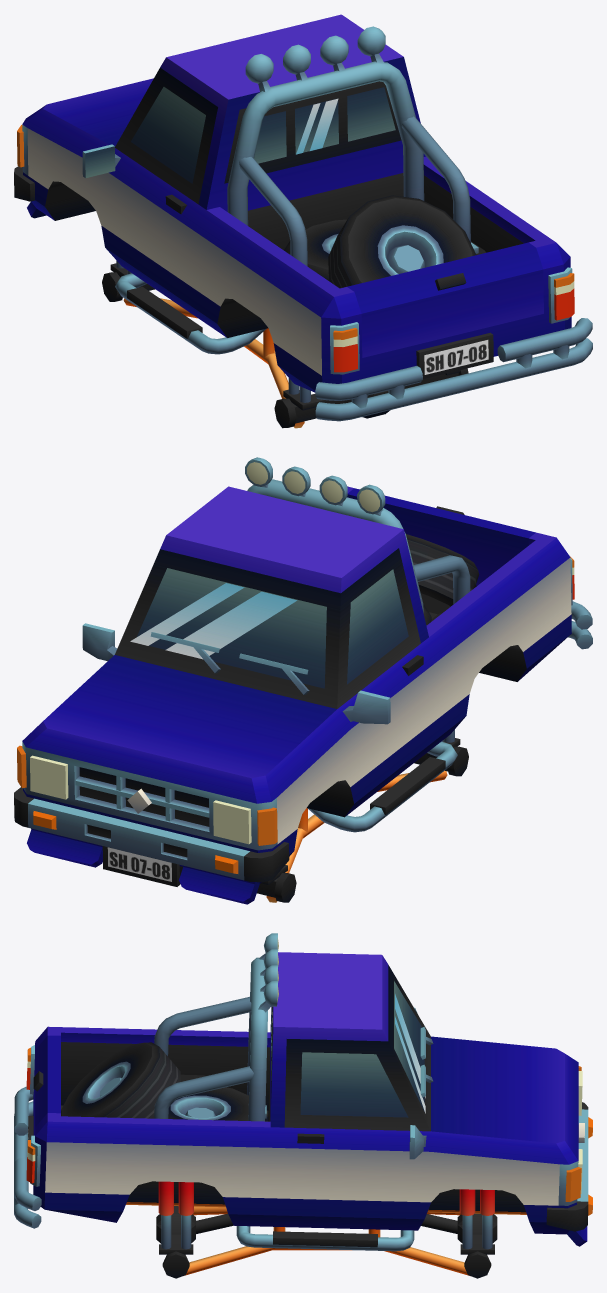
The model's file is car5.glb.
The picture shows the model from 3 angles, top to bottom: view 1: azimuth 30°, elevation 25°; view 2: azimuth 150°, elevation 25°; view 3: azimuth 270°, elevation 25°; orthographic projection. The views are drawn at different scales.
Visible parts, largest first — view 1: model_7.001; view 2: model_7.001; view 3: model_7.001.
Boxes of the visible parts, box(x1,y1,x2,y2) form: model_7.001: box(14, 14, 592, 428); model_7.001: box(14, 457, 592, 904); model_7.001: box(14, 933, 592, 1278).
Bounding box in the file's own units: 162 × 167 × 304.
1 material, 1 textured.
